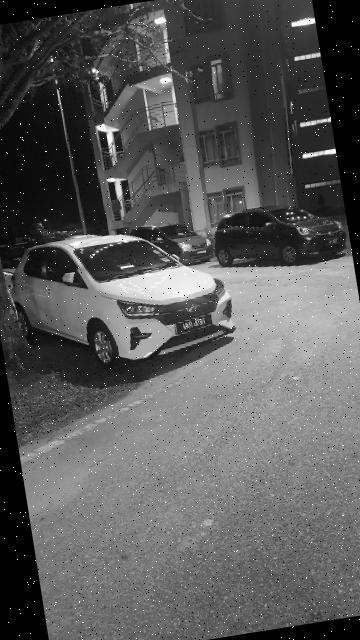License_Plate: (170, 311, 220, 340)
car: (6, 208, 255, 379)
